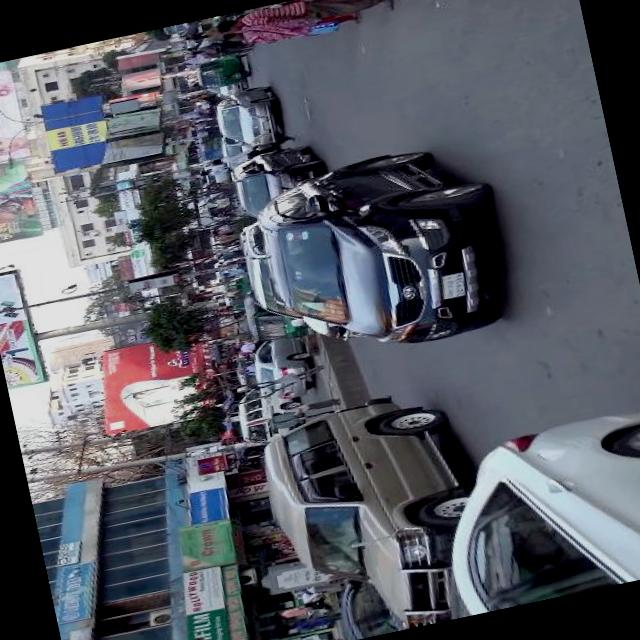car: (239, 374, 513, 640), (247, 132, 523, 374), (414, 400, 640, 616), (220, 138, 332, 220), (209, 79, 294, 156), (245, 330, 321, 404)
motorcycle: (238, 285, 303, 352), (193, 51, 255, 93), (219, 274, 250, 306), (205, 218, 242, 242), (196, 134, 220, 152)
truck: (225, 370, 311, 450), (187, 31, 257, 62)
